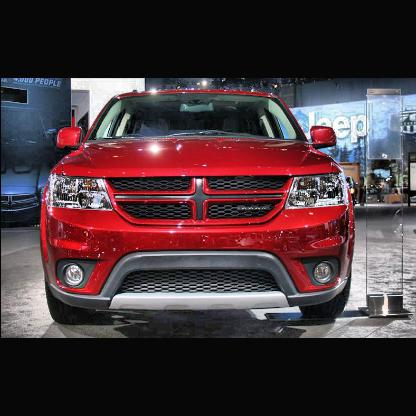Dodge Journey SUV 2012: (38, 89, 355, 324)
